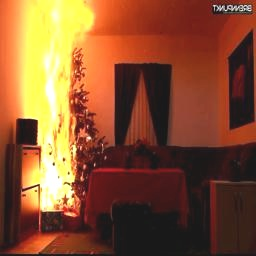fire: (0, 1, 99, 217)
